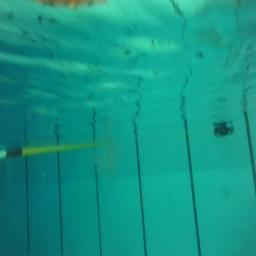Side: (212, 122, 234, 138), (213, 126, 234, 136)
